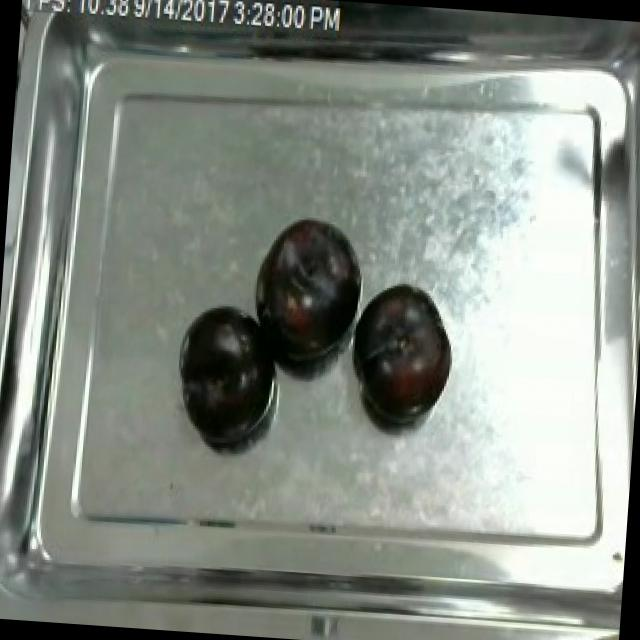Fruit: (252, 206, 366, 372), (346, 280, 458, 432), (172, 300, 278, 446), (575, 621, 619, 640)
